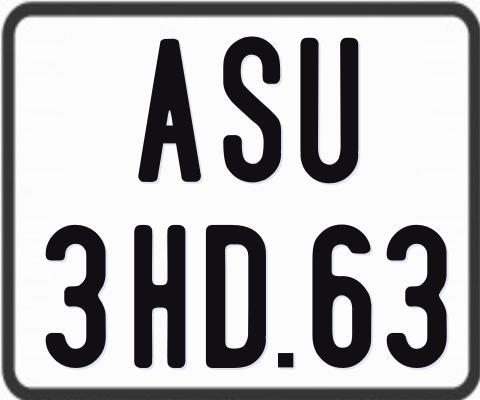3: (385, 224, 451, 369), (45, 225, 106, 372)
6: (310, 222, 370, 369)
A: (137, 38, 203, 187)
D: (205, 223, 267, 370)
H: (134, 225, 191, 373)
S: (220, 36, 283, 184)
U: (299, 36, 358, 184)
